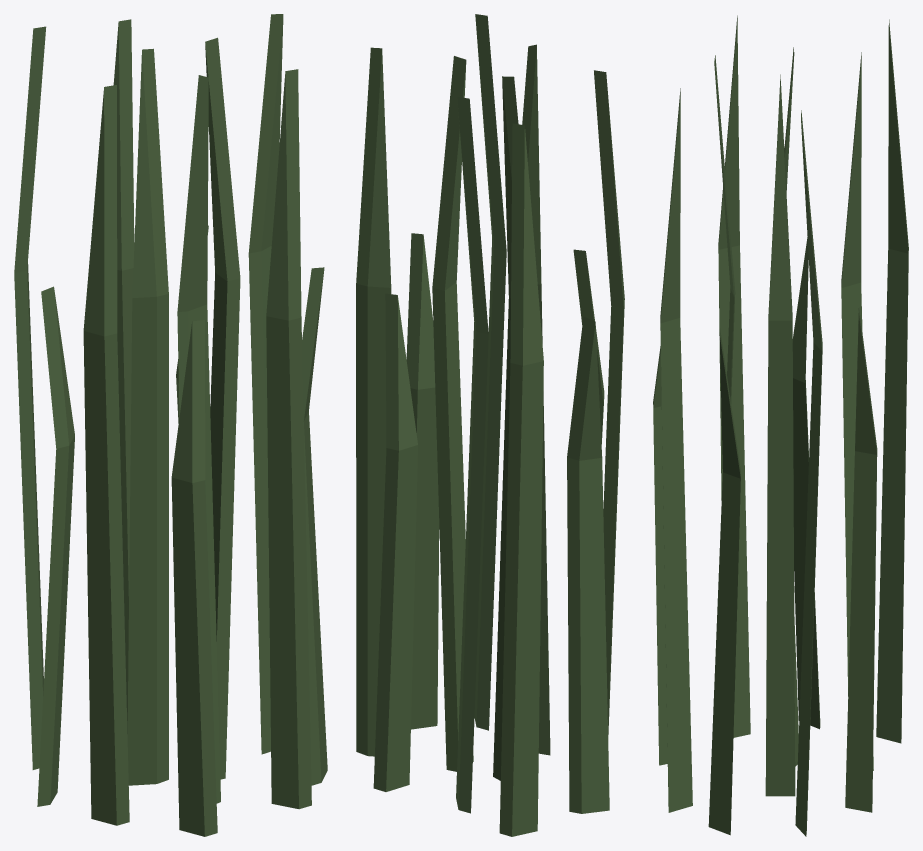
File: Blends_Grass.glb
The picture shows the model from 3 angles, left to right: view 1: azimuth 30°, elevation 25°; view 2: azimuth 150°, elevation 25°; view 3: azimuth 270°, elevation 25°; orthographic projection. The views are drawn at different scales.
Parts seen in each view (by area): view 1: Grass; view 2: Grass; view 3: Grass.
Part boxes in pixels (box(x1,y1,x2,y2)): Grass: box(14, 14, 327, 836); Grass: box(356, 14, 624, 836); Grass: box(653, 15, 908, 836).
Bounding box in the file's own units: 0.3738 × 1.01 × 0.3272.
